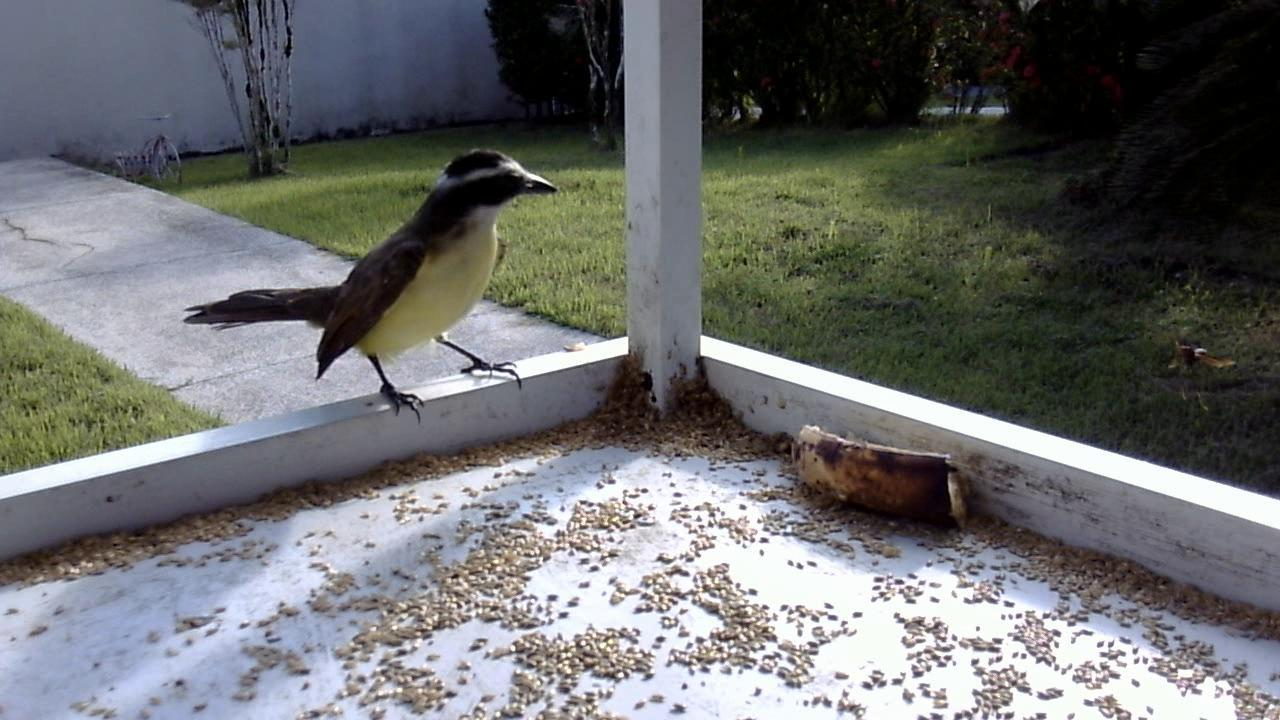bem_te_vi: (176, 140, 561, 437)
